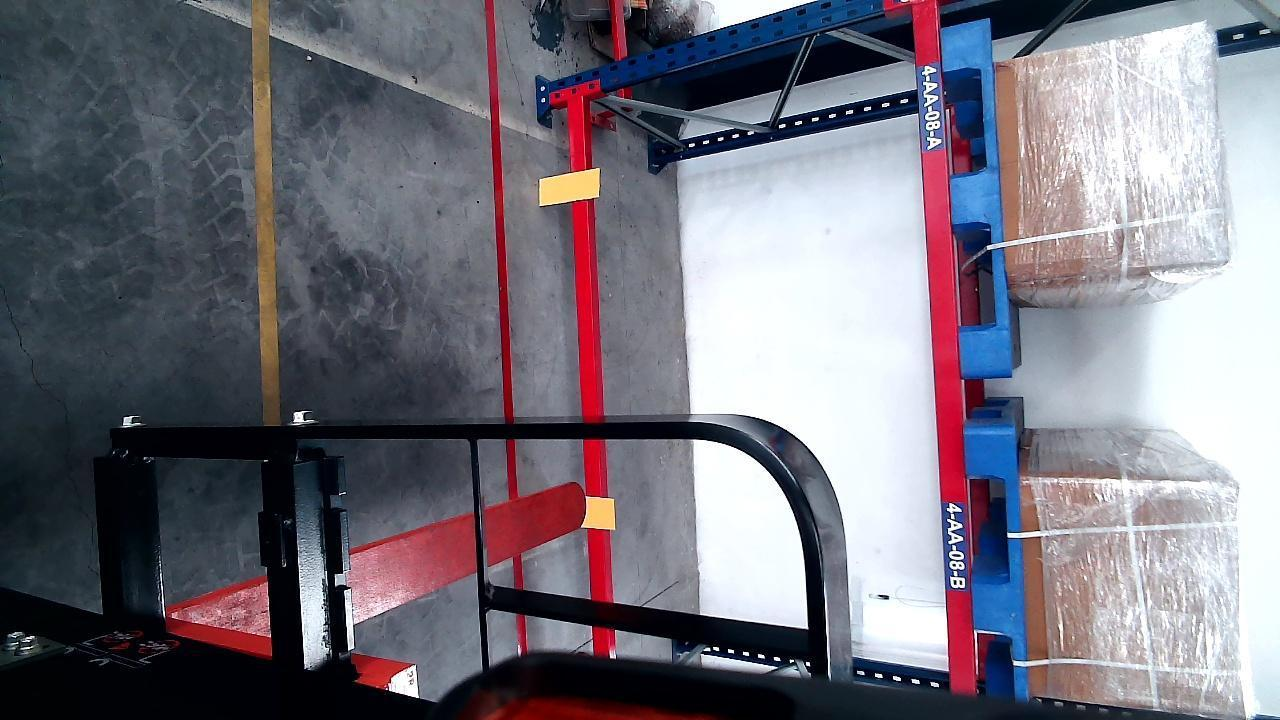h_rack: (918, 2, 973, 688), (565, 108, 614, 655)
orange_strip: (539, 168, 600, 205), (584, 496, 616, 529)
red_line: (484, 6, 529, 653)
small_pallet: (944, 15, 1008, 374), (969, 426, 1027, 692)
yellow_line: (253, 0, 280, 416)
